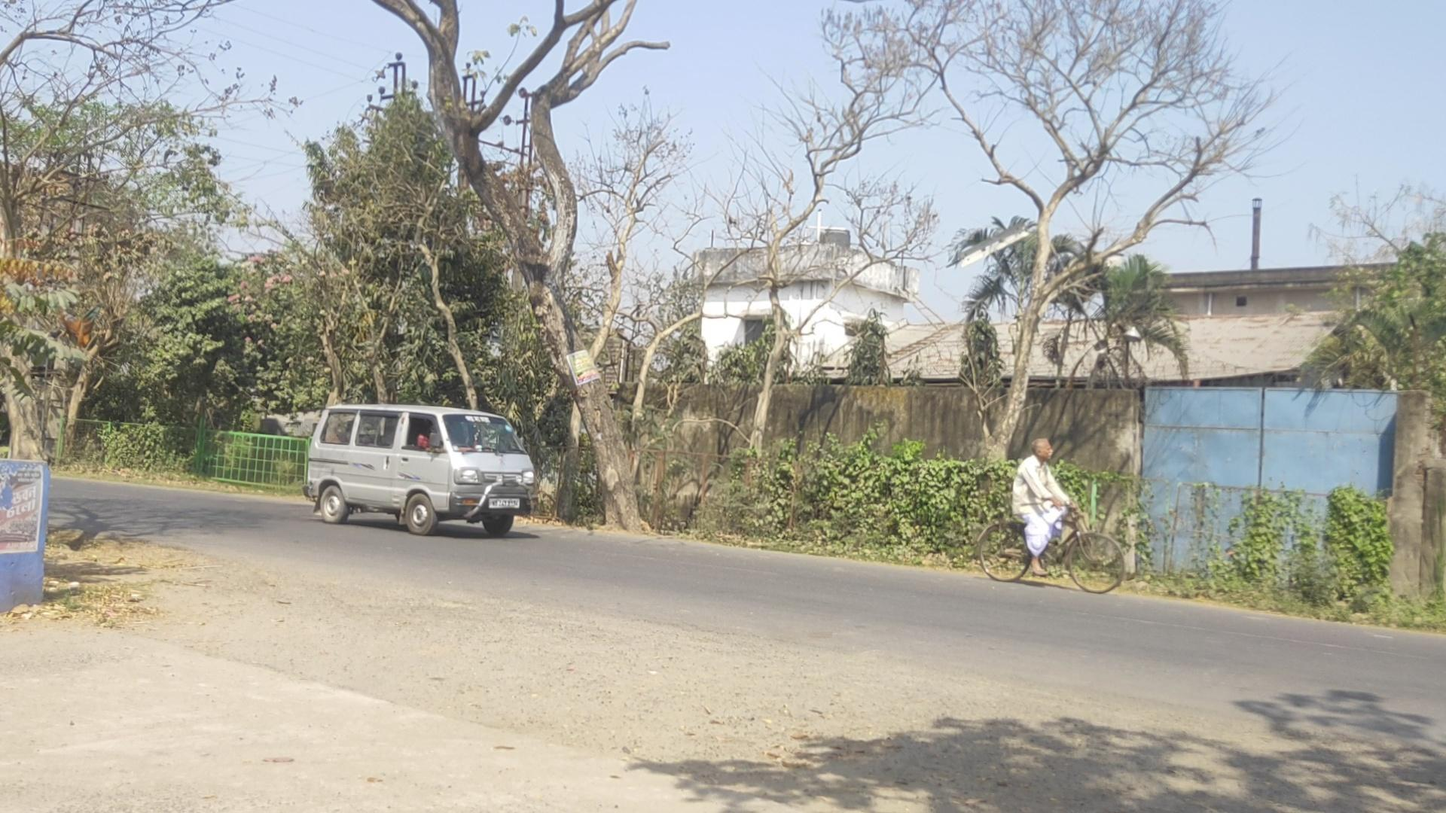bike: (977, 437, 1125, 594)
van: (304, 403, 535, 537)
